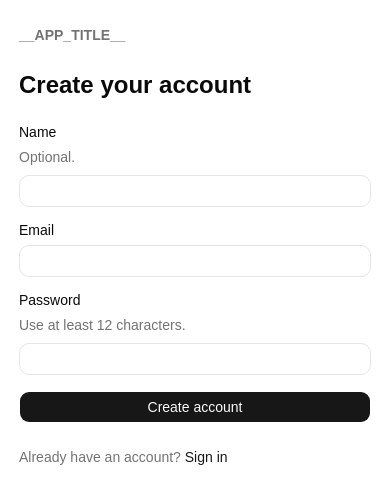
it: register page › requires a password of at least 12 characters
Type "ada@example.com" into the field labelled "Email" at x=195, y=261, box [19,245,371,277]
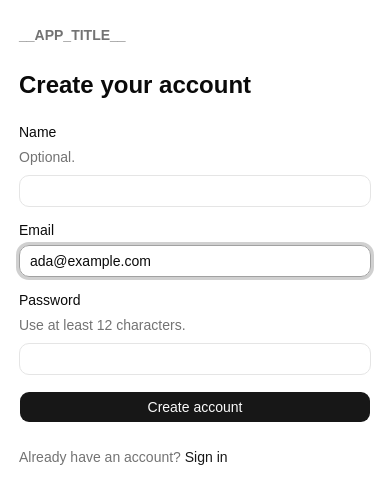
Type "too short" into the password field labelled "Password" at x=195, y=359, box [19,343,371,375]
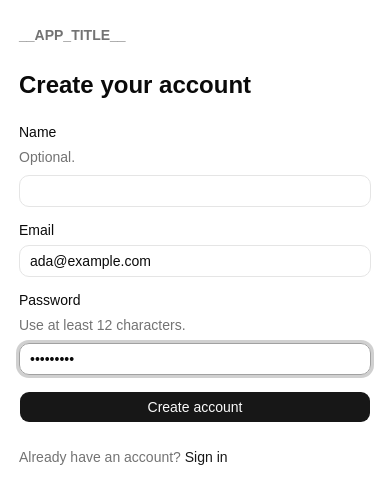
Click the button "Create account" at x=195, y=407, box [19,391,371,423]
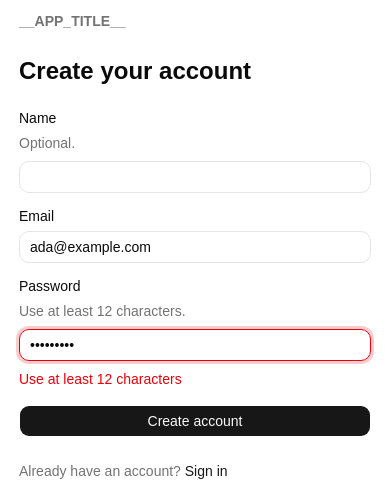
Expected: the text "Use at least 12 characters" is shown, [19,371,182,387]
